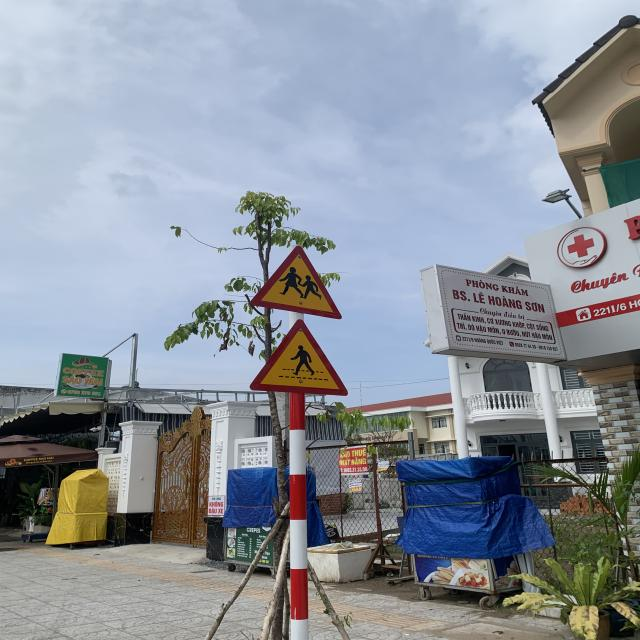Duong_Nguoi_Di_Bo_Sang_Ngang: (249, 319, 347, 397)
Vong_Xuyen: (248, 245, 344, 319)
